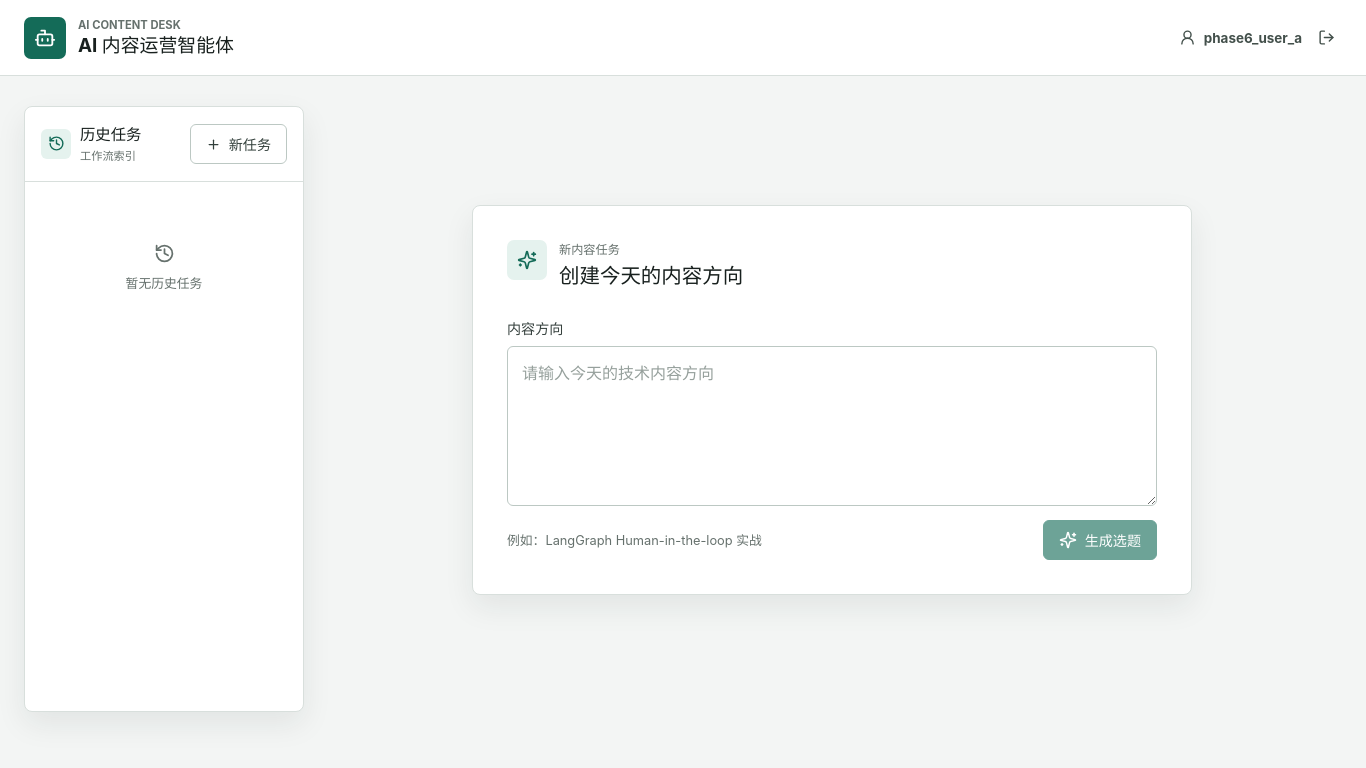
it: authentication lifecycle › ignores user A workflow response after logout and user B login
Type "用户 A 的工作流" into the text box labelled "内容方向".
click(832, 426); type("用户 A 的工作流")  # box [507, 346, 1157, 506]
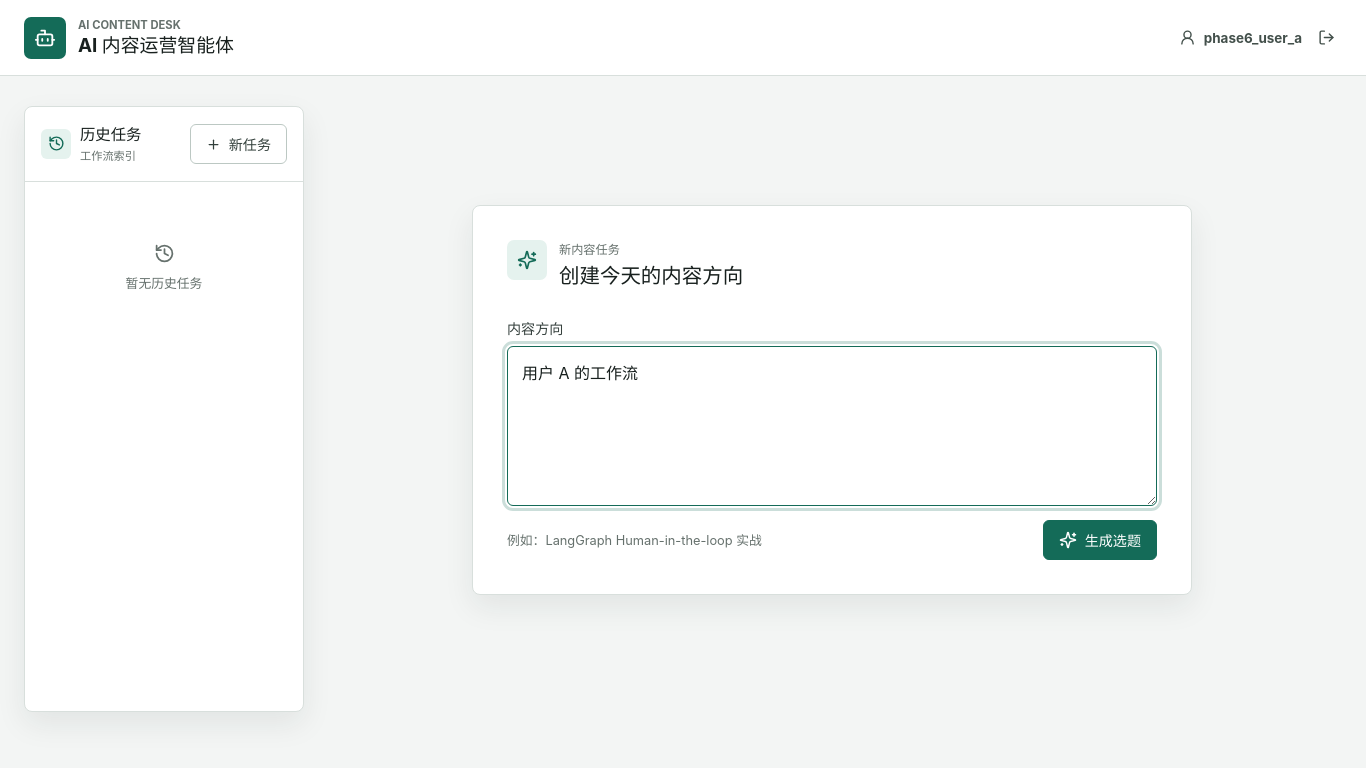
Click the button "生成选题".
click(1100, 540)  # box [1043, 520, 1157, 560]
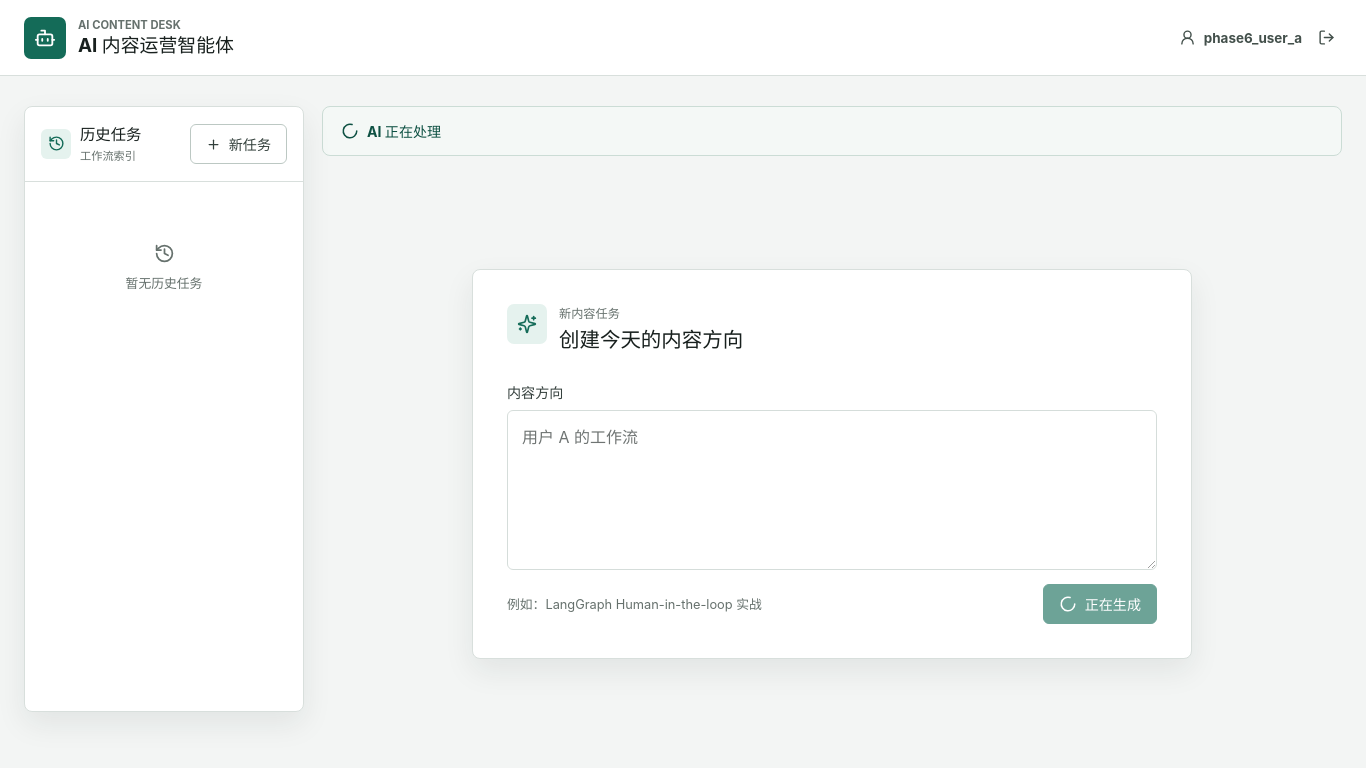
Click the button named "退出登录".
click(1326, 38)  # box [1310, 22, 1342, 54]
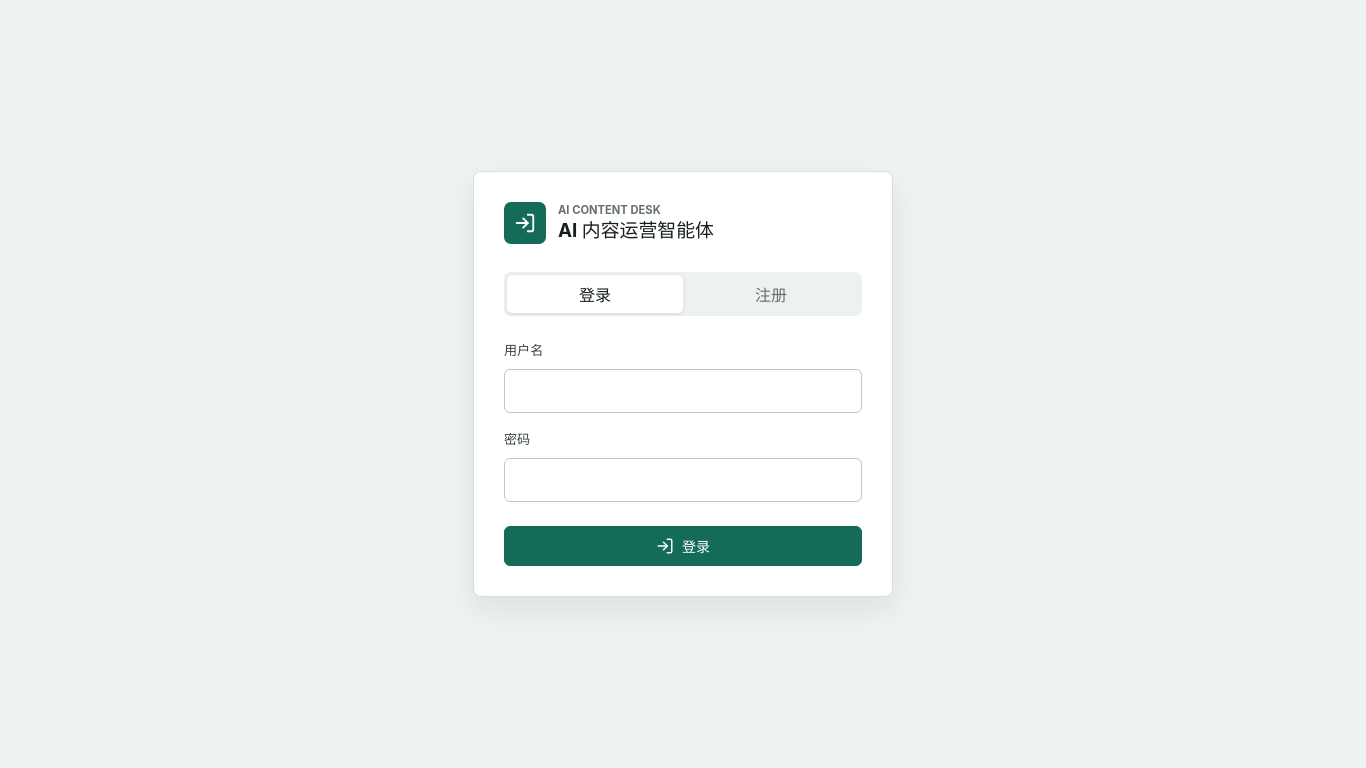
Type "phase6_user_b" into the field labelled "用户名".
click(683, 391); type("phase6_user_b")  # box [504, 369, 862, 413]
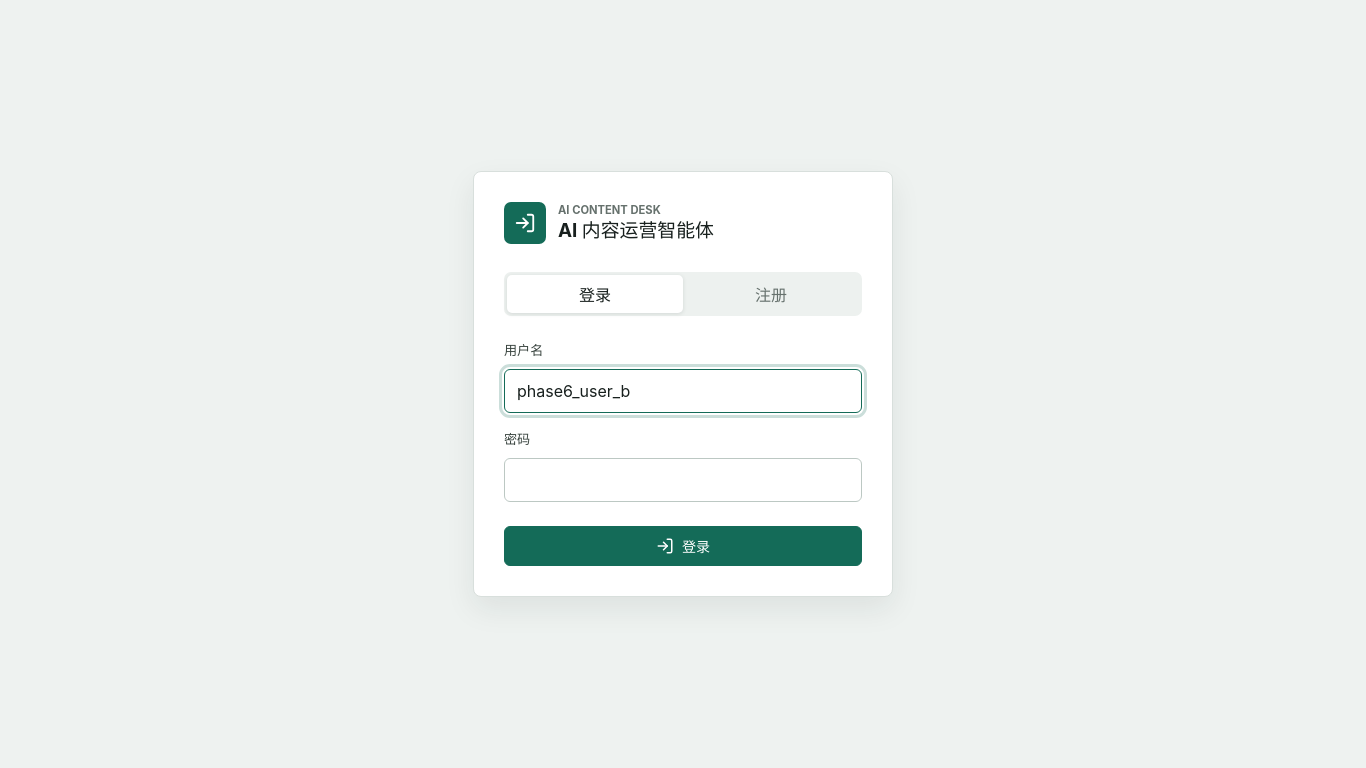
Type "user-b-password" into the password field labelled "密码".
click(683, 480); type("user-b-password")  # box [504, 458, 862, 502]
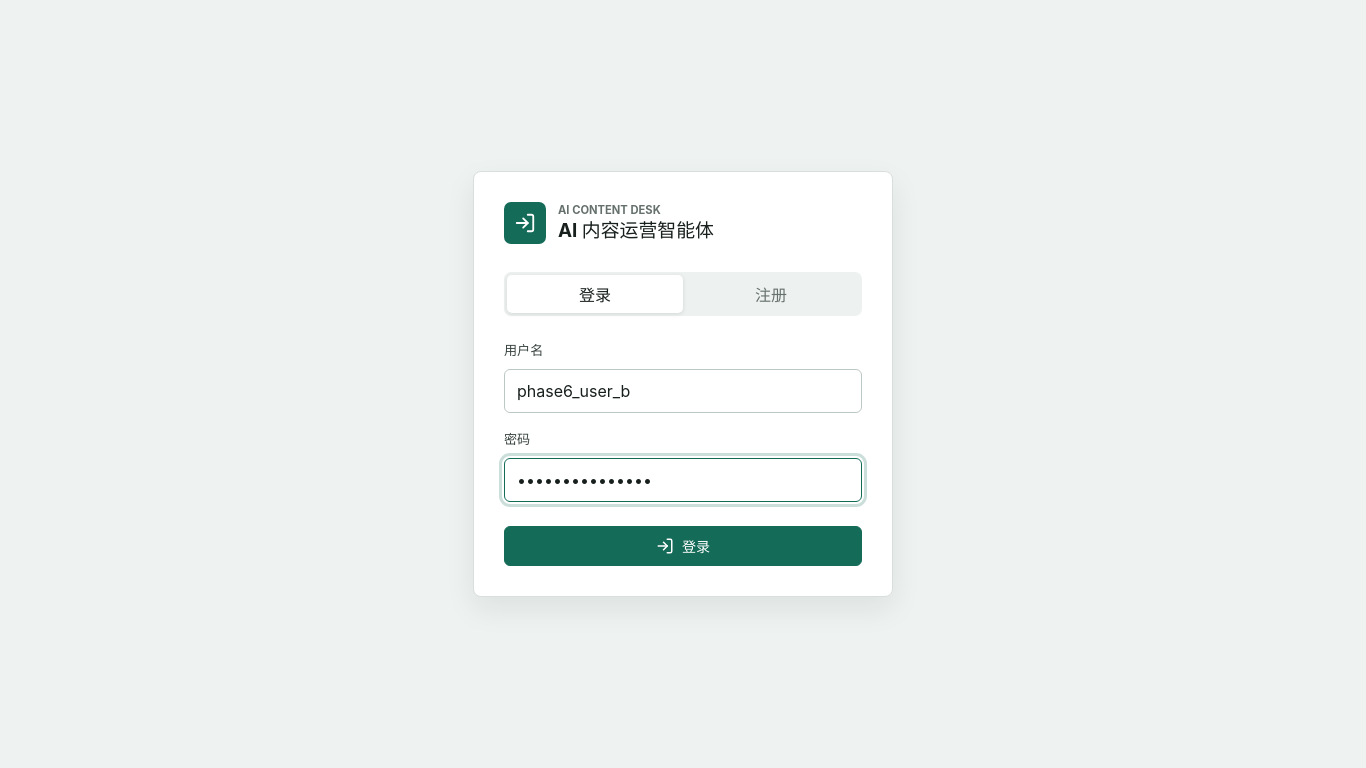
Click the button "登录".
click(683, 546)  # box [504, 526, 862, 566]
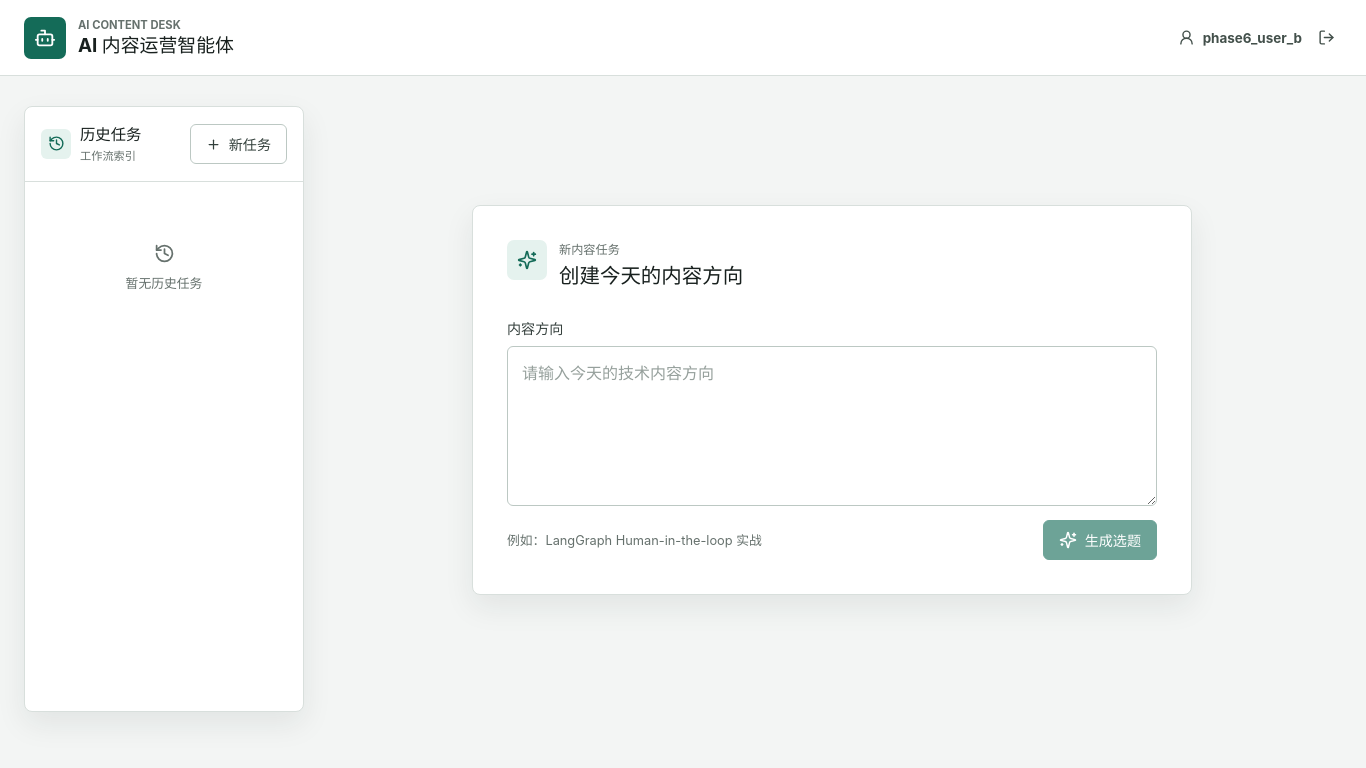
Now the text "phase6_user_b" is shown, box [1203, 30, 1302, 46]
